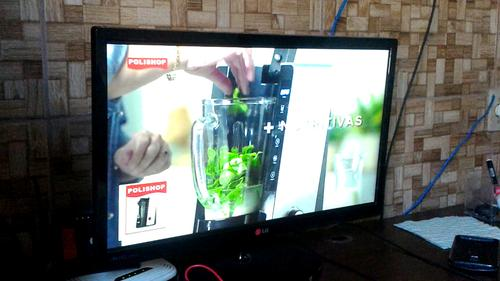Polishop #1: (118, 178, 174, 241)
